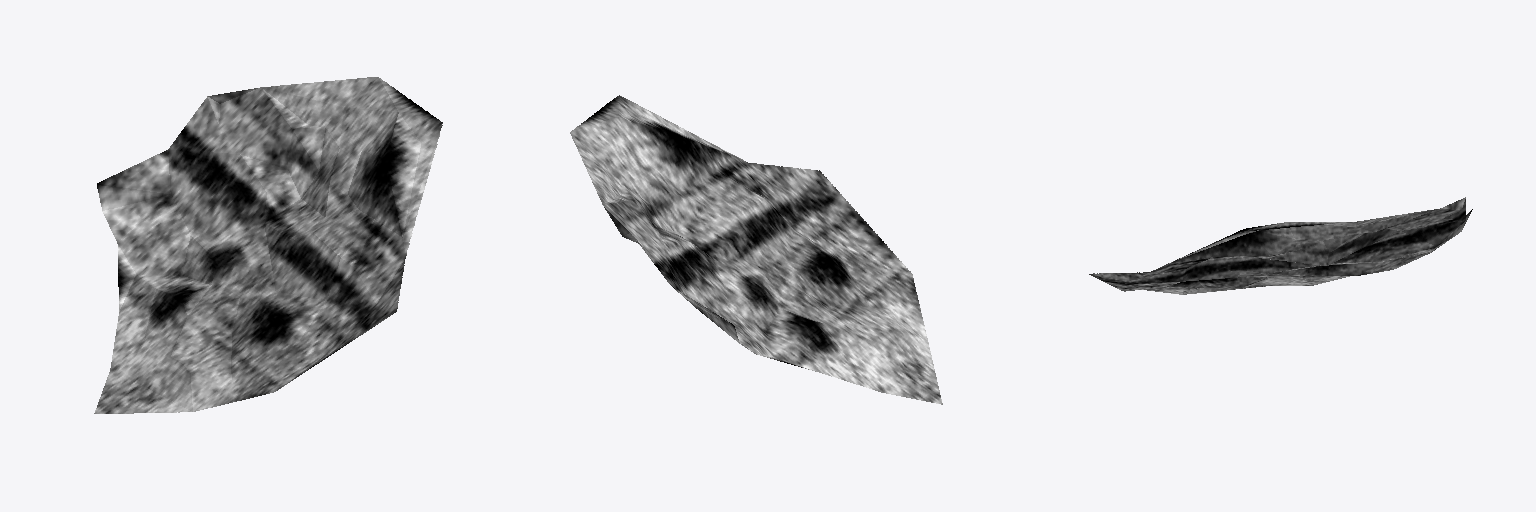
3 renders of one model, left to right at view 1: azimuth 30°, elevation 25°; view 2: azimuth 150°, elevation 25°; view 3: azimuth 270°, elevation 25°, orthographic.
Bounding box in the file's own units: 166 × 106 × 165.
1 materials, 1 textured.